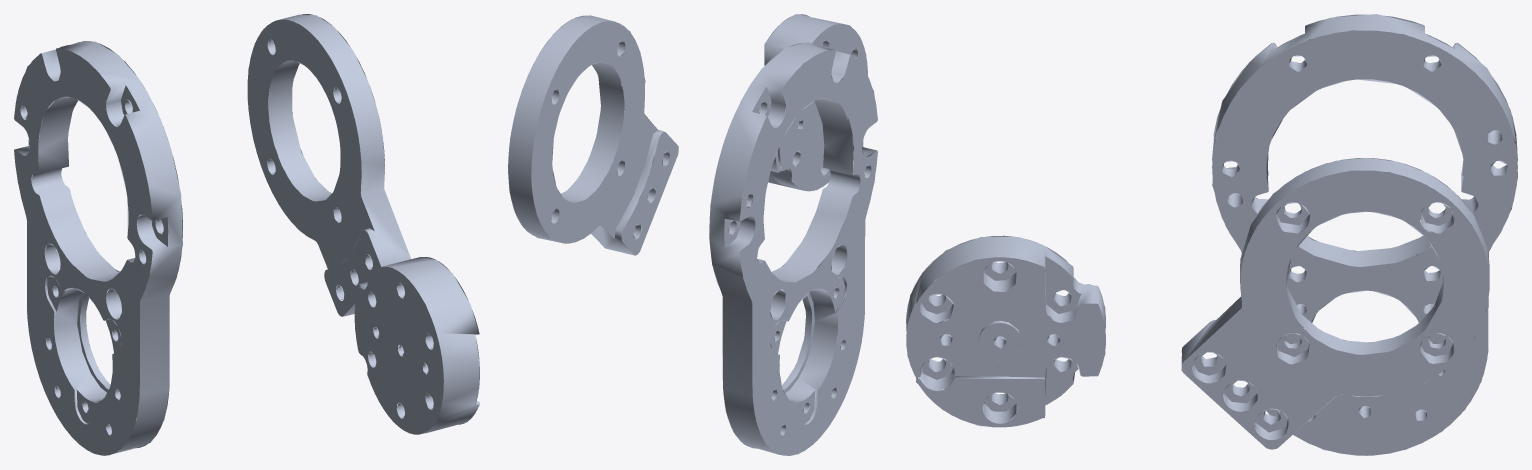
The picture shows the model from 3 angles, left to right: view 1: azimuth 30°, elevation 25°; view 2: azimuth 150°, elevation 25°; view 3: azimuth 270°, elevation 25°; orthographic projection. The views are drawn at different scales.
Parts seen in each view (by area): view 1: ee_base_link_03; view 2: ee_base_link_03; view 3: ee_base_link_03.
Boxes of the visible parts, x1,y1,x2,y2 form: ee_base_link_03: [14, 14, 479, 455]; ee_base_link_03: [508, 14, 877, 455]; ee_base_link_03: [906, 14, 1517, 455].
Bounding box in the file's own units: 0.0575 × 0.0876 × 0.114.
